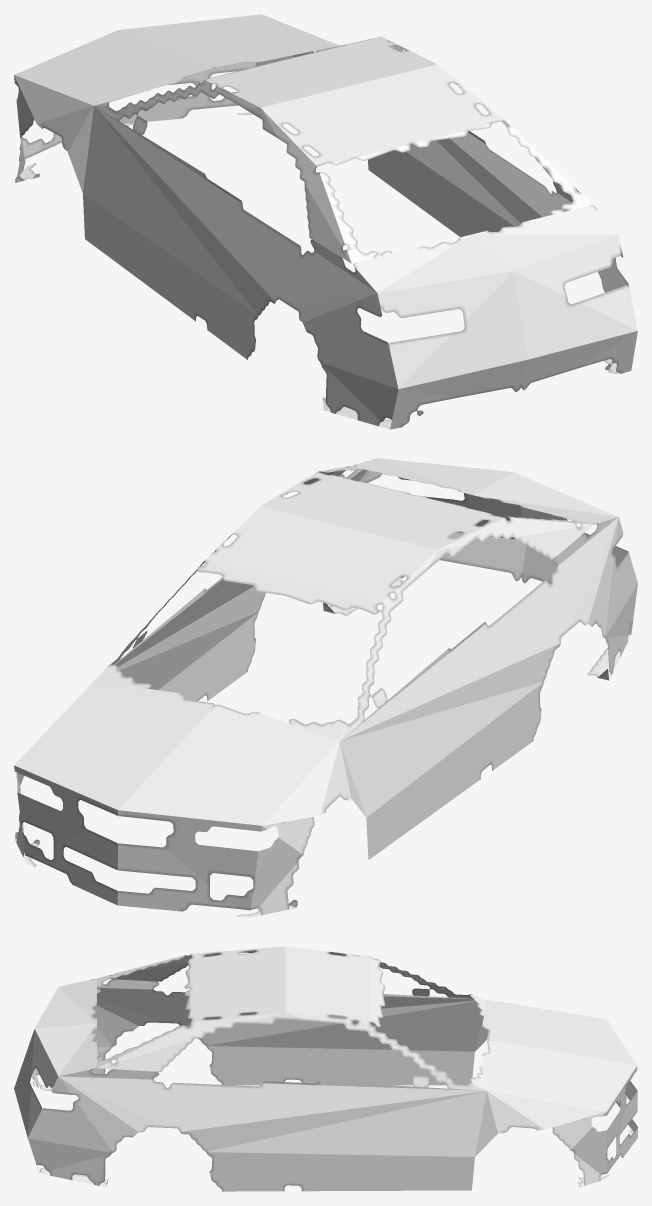
The model's file is hyundaisonata2007color.obj.
The picture shows the model from 3 angles, top to bottom: view 1: azimuth 30°, elevation 25°; view 2: azimuth 150°, elevation 25°; view 3: azimuth 270°, elevation 25°; orthographic projection. The views are drawn at different scales.
Parts seen in each view (by area): view 1: hyundaisonata2007_Plane; view 2: hyundaisonata2007_Plane; view 3: hyundaisonata2007_Plane.
Part boxes in pixels (left/top/right/bottom): hyundaisonata2007_Plane: left=14, top=14, right=637, bottom=429; hyundaisonata2007_Plane: left=14, top=458, right=637, bottom=917; hyundaisonata2007_Plane: left=14, top=946, right=637, bottom=1191.
Bounding box in the file's own units: 1.87 × 1.31 × 4.65.
